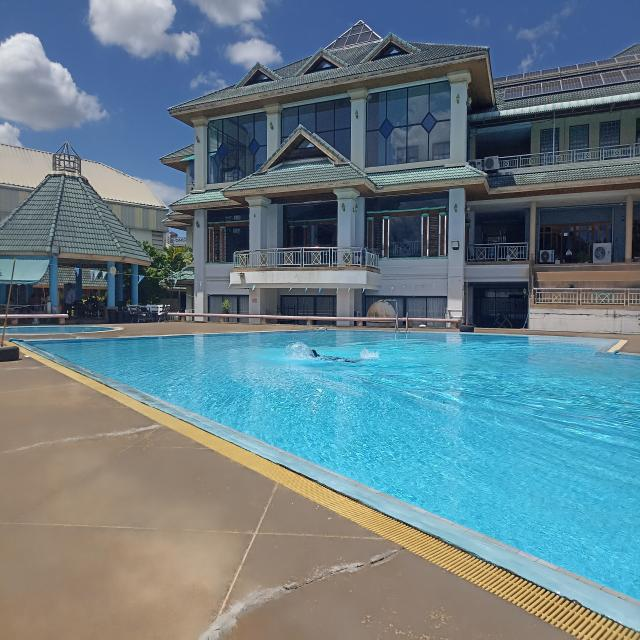Swimming: (296, 332, 388, 382)
